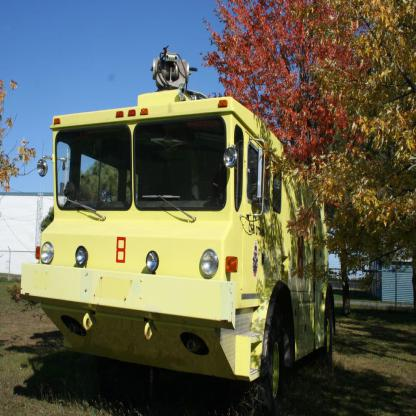Truck: (20, 45, 336, 415)
